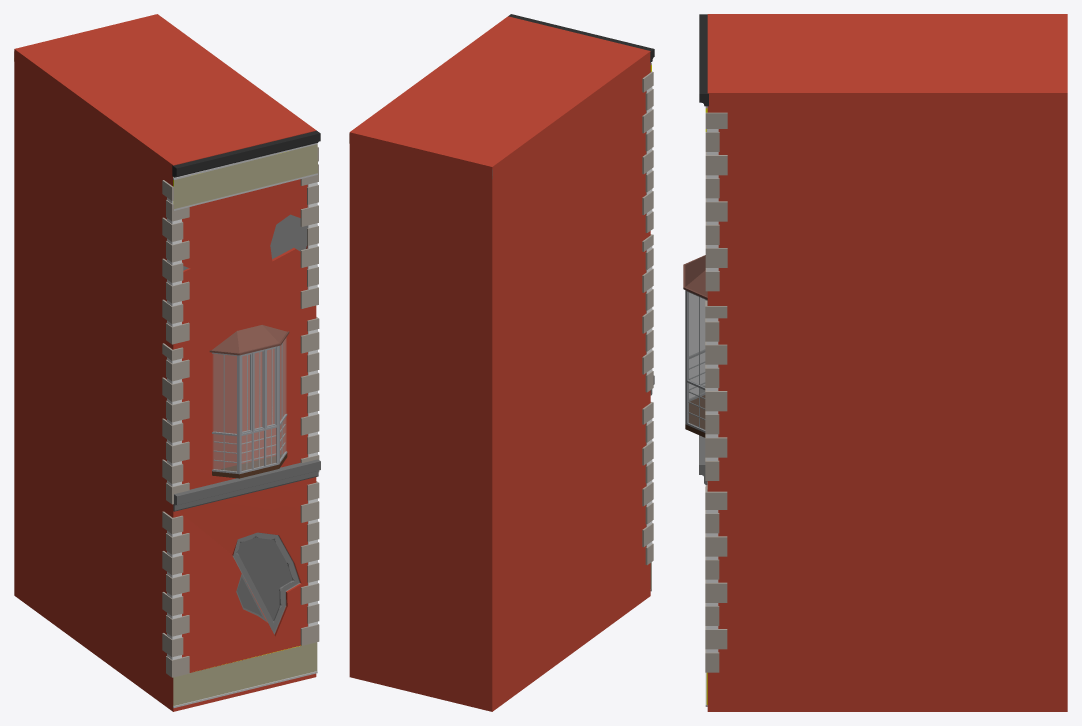
The model's file is last_build_1.fbx.
3 renders of one model, left to right at view 1: azimuth 30°, elevation 25°; view 2: azimuth 150°, elevation 25°; view 3: azimuth 270°, elevation 25°, orthographic. The views are drawn at different scales.
Visible parts, largest first — view 1: Building_1; view 2: Building_1; view 3: Building_1.
Part boxes in pixels (<box>): Building_1: <box>14,14,320,711</box>; Building_1: <box>349,14,654,711</box>; Building_1: <box>683,14,1067,711</box>.
Size of the model in its own units: 22.5 by 80 by 45.
